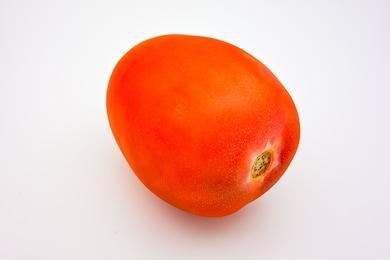tomato: (105, 31, 303, 218)
